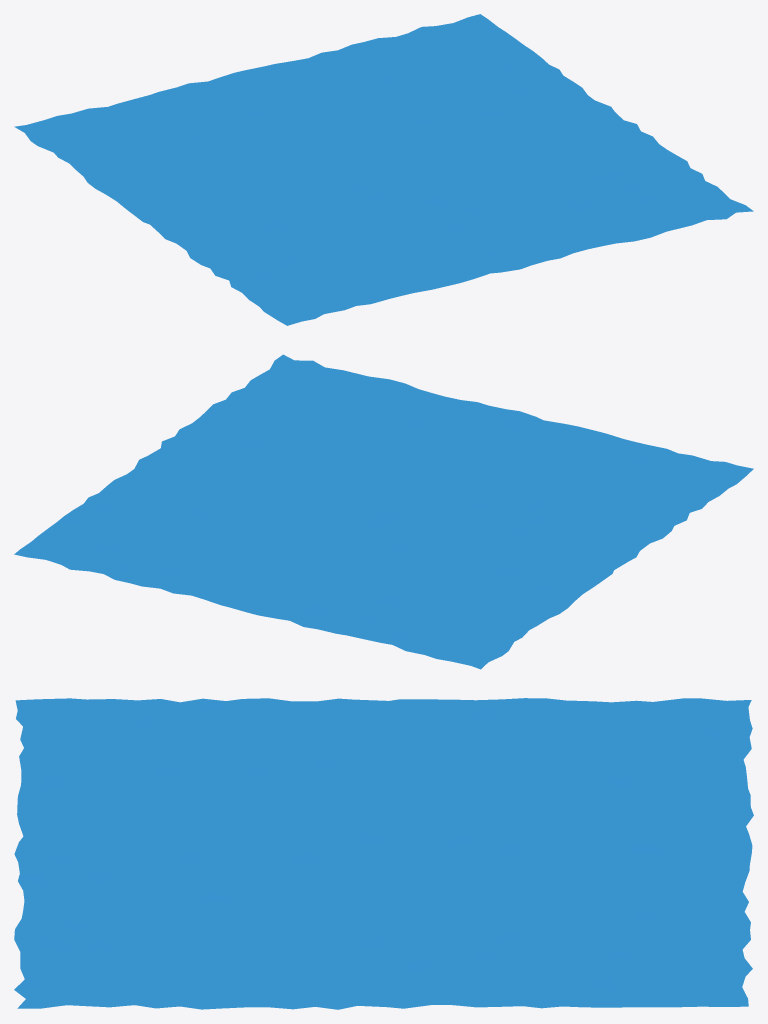
The model's file is Sea.fbx.
3 renders of one model, top to bottom at view 1: azimuth 30°, elevation 25°; view 2: azimuth 150°, elevation 25°; view 3: azimuth 270°, elevation 25°, orthographic. The views are drawn at different scales.
Visible parts, largest first — view 1: Plane; view 2: Plane; view 3: Plane.
Part boxes in pixels (left/top/right/bottom): Plane: left=14, top=14, right=753, bottom=325; Plane: left=14, top=354, right=753, bottom=669; Plane: left=14, top=698, right=753, bottom=1009.
Bounding box in the file's own units: 40525 × 3.84 × 40660.
